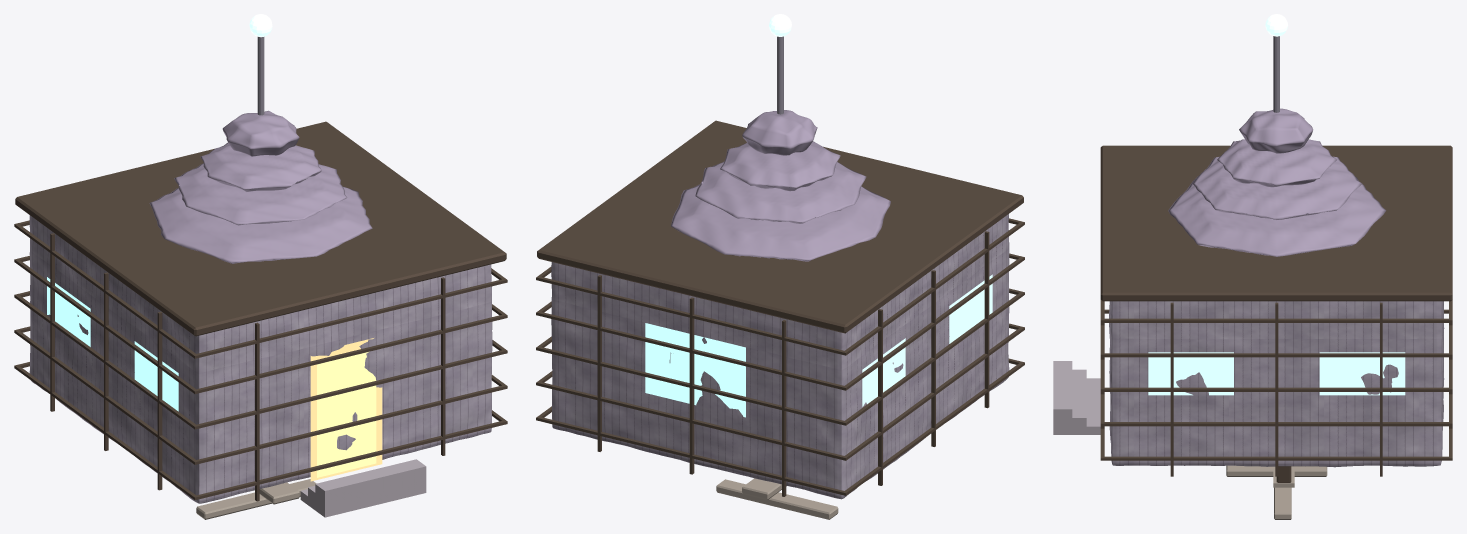
The model's file is house-about.glb.
The picture shows the model from 3 angles, left to right: view 1: azimuth 30°, elevation 25°; view 2: azimuth 150°, elevation 25°; view 3: azimuth 270°, elevation 25°; orthographic projection. The views are drawn at different scales.
Visible parts, largest first — view 1: house_walls, house_eave_trim, house_roof_0, house_roof_1, house_door, house_step_2, house_roof_2, house_roof_3, house_door_frame, house_joint_h_s_30, house_joint_h_s_38, house_joint_h_s_14 (+16 smaller); view 2: house_walls, house_eave_trim, house_roof_0, house_roof_1, house_window_n_main, house_roof_2, house_roof_3, house_joint_h_n_22, house_joint_h_n_38, house_joint_h_n_14, house_joint_h_n_30, house_joint_h_n_6 (+14 smaller); view 3: house_walls, house_eave_trim, house_roof_0, house_roof_1, house_roof_2, house_window_e_b, house_window_e_a, house_roof_3, house_joint_h_e_14, house_joint_h_e_30, house_joint_h_e_38, house_joint_h_e_6 (+10 smaller).
Part boxes in pixels (<box>): house_walls: <box>29,215,492,503</box>; house_eave_trim: <box>15,121,506,336</box>; house_roof_0: <box>149,186,372,263</box>; house_roof_1: <box>174,163,347,225</box>; house_door: <box>317,351,376,477</box>; house_step_2: <box>315,459,426,517</box>; house_roof_2: <box>200,142,321,191</box>; house_roof_3: <box>222,110,299,156</box>; house_door_frame: <box>310,338,382,481</box>; house_joint_h_s_30: <box>193,314,507,393</box>; house_joint_h_s_38: <box>193,278,506,358</box>; house_joint_h_s_14: <box>193,385,507,464</box>; house_walls: <box>551,214,1009,499</box>; house_eave_trim: <box>537,120,1023,333</box>; house_roof_0: <box>671,184,890,261</box>; house_roof_1: <box>695,162,866,223</box>; house_window_n_main: <box>645,323,745,417</box>; house_roof_2: <box>720,141,840,191</box>; house_roof_3: <box>742,110,817,155</box>; house_joint_h_n_22: <box>536,346,846,425</box>; house_joint_h_n_38: <box>537,276,847,355</box>; house_joint_h_n_14: <box>537,382,846,460</box>; house_joint_h_n_30: <box>536,312,847,390</box>; house_joint_h_n_6: <box>536,416,847,494</box>; house_walls: <box>1109,301,1444,467</box>; house_eave_trim: <box>1100,145,1452,301</box>; house_roof_0: <box>1168,176,1386,256</box>; house_roof_1: <box>1192,156,1362,219</box>; house_roof_2: <box>1217,139,1336,187</box>; house_window_e_b: <box>1148,352,1233,395</box>; house_window_e_a: <box>1319,352,1405,395</box>; house_roof_3: <box>1239,108,1313,153</box>; house_joint_h_e_14: <box>1100,422,1452,426</box>; house_joint_h_e_30: <box>1100,353,1452,357</box>; house_joint_h_e_38: <box>1100,318,1452,322</box>; house_joint_h_e_6: <box>1100,456,1452,460</box>.
Bounding box in the file's own units: 7.4 × 11.09 × 8.4.
Materials: 12 (1 with a texture image).
